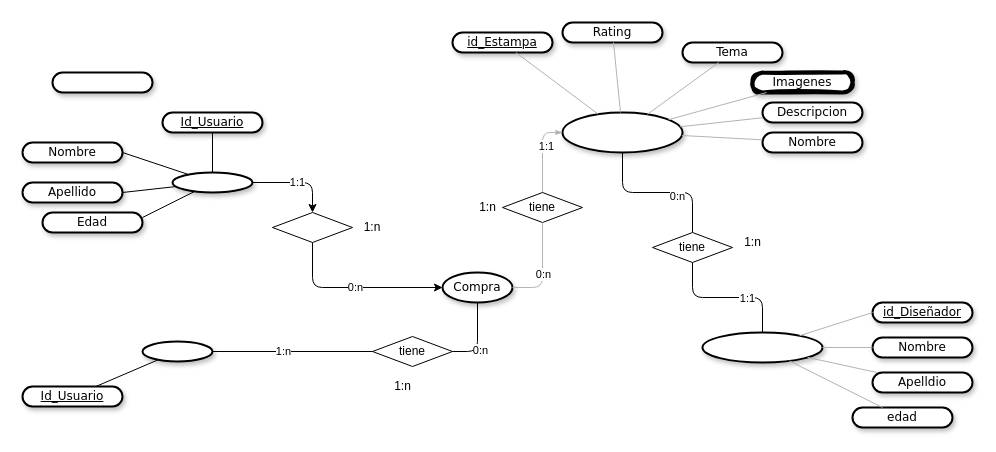
This 996x452 diagram has some shape labels left out. The shapes that lost their labels are listed below. From the top down, each one's centre as x and y in pixels, then its label:
At point 103,83: "Topic 10".
At point 623,133: "Estampa".
At point 213,183: "Usuario".
At point 312,227: "Realiza".
At point 178,352: "Camisa".
At point 763,348: "Diseñador".
